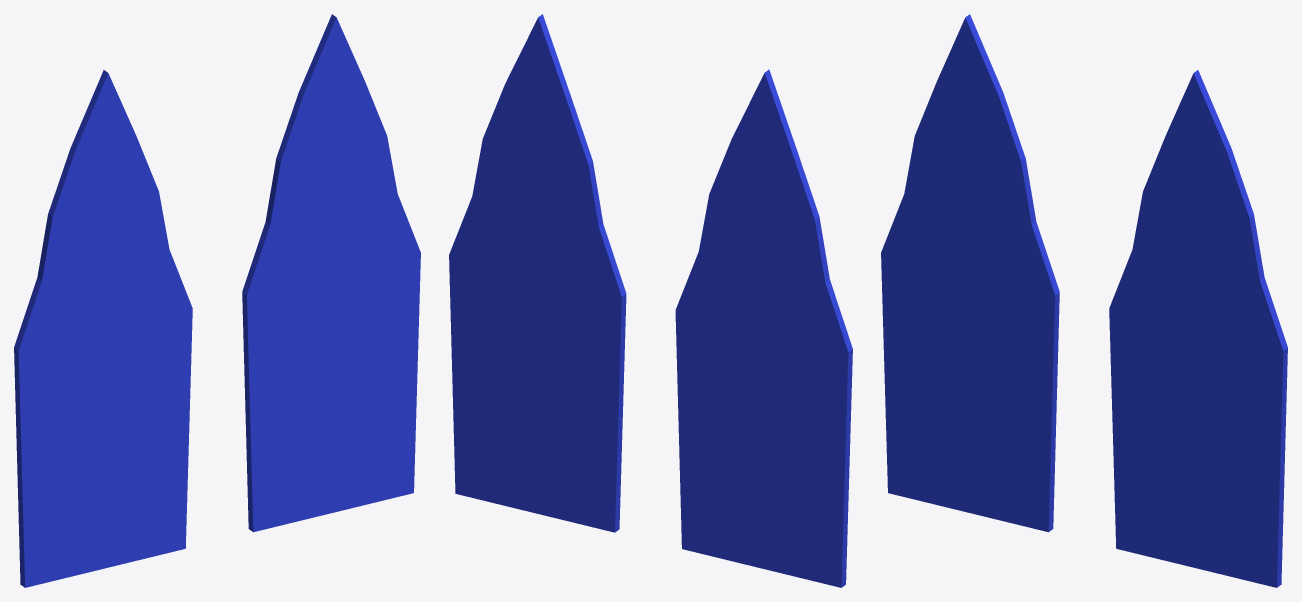
File: witraz.fbx
3 renders of one model, left to right at view 1: azimuth 30°, elevation 25°; view 2: azimuth 150°, elevation 25°; view 3: azimuth 330°, elevation 25°, orthographic.
Visible parts, largest first — view 1: Cube.049; view 2: Cube.049; view 3: Cube.049.
Part boxes in pixels (<box>): Cube.049: <box>14,14,420,587</box>; Cube.049: <box>449,14,852,587</box>; Cube.049: <box>881,14,1287,587</box>.
Size of the model in its own units: 1.96 by 2.31 by 0.0642.
